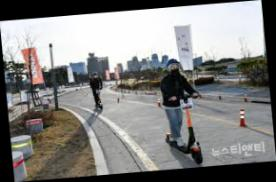helmet: (157, 56, 209, 169), (88, 71, 105, 112)
